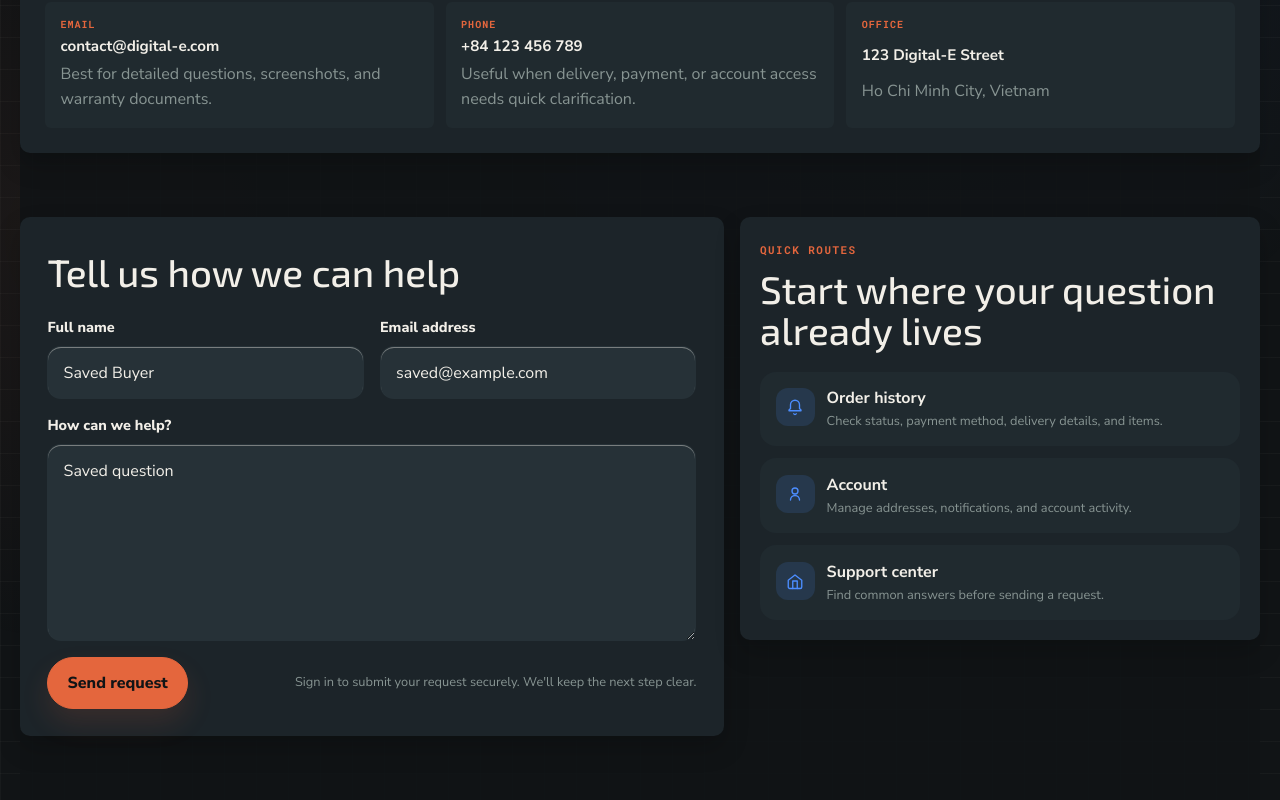
Test: ContactUsPage › restores a valid draft and clears it after authenticated submission
The image size is (1280, 800).
(page scrolled)
Check: the field showing "Saved Buyer" is shown, box [47,346,364,399]
Check: the field showing "saved@example.com" is shown, box [380,346,696,399]
Click the button "Send request" at (118, 683), box [47,657,188,709]
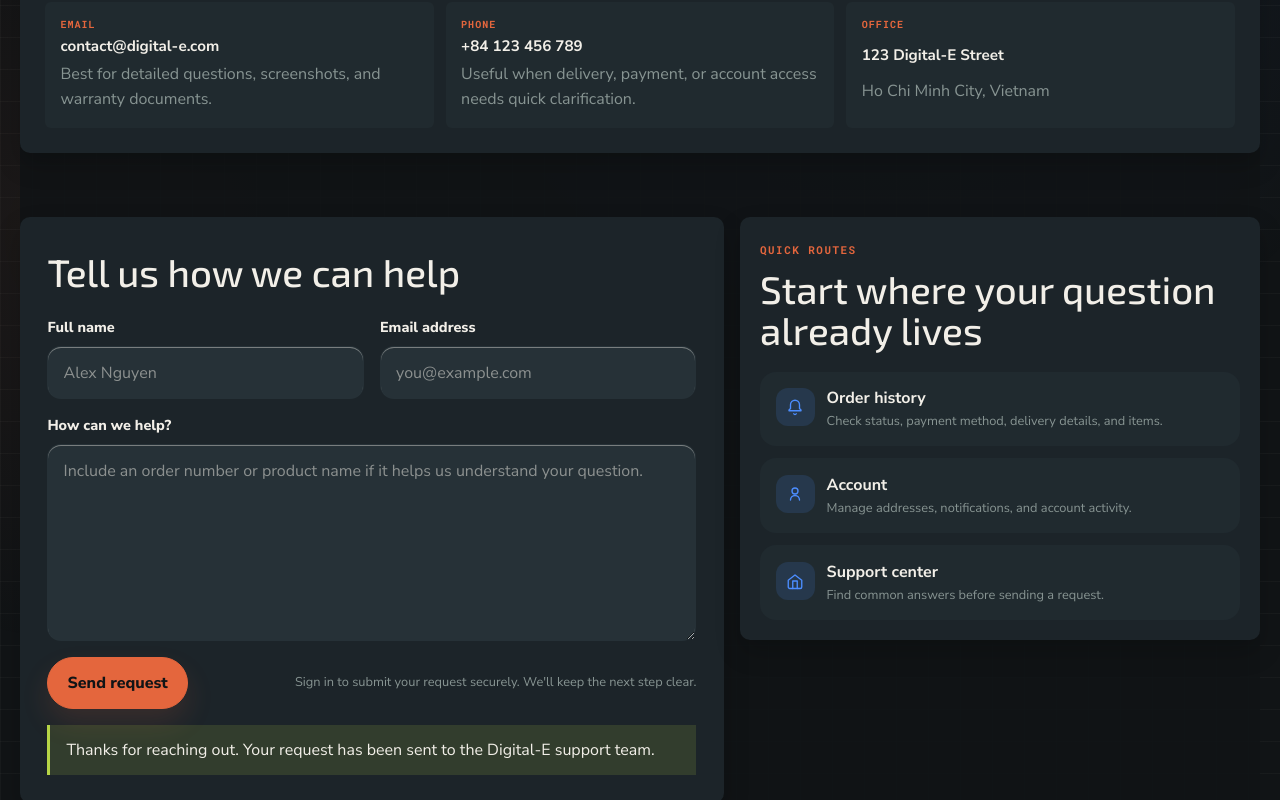
Check: the message shows "Thanks for reaching out. Your request has been sent to the Digital-E support team.", box [66,739,655,761]
